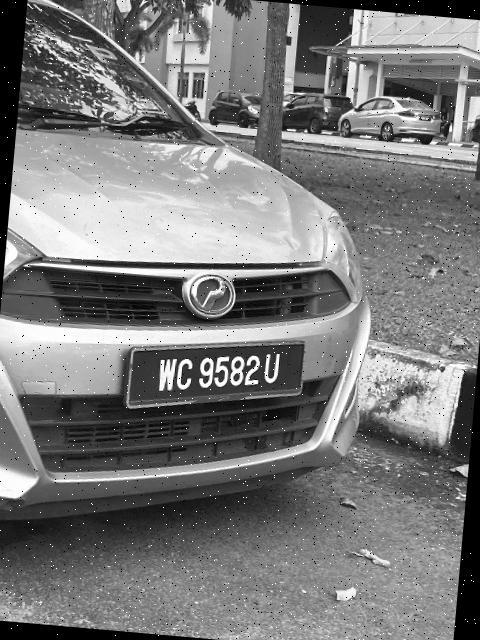License_Plate: (120, 324, 311, 433)
WC9582U: (120, 324, 311, 433)
car: (1, 1, 402, 621)
